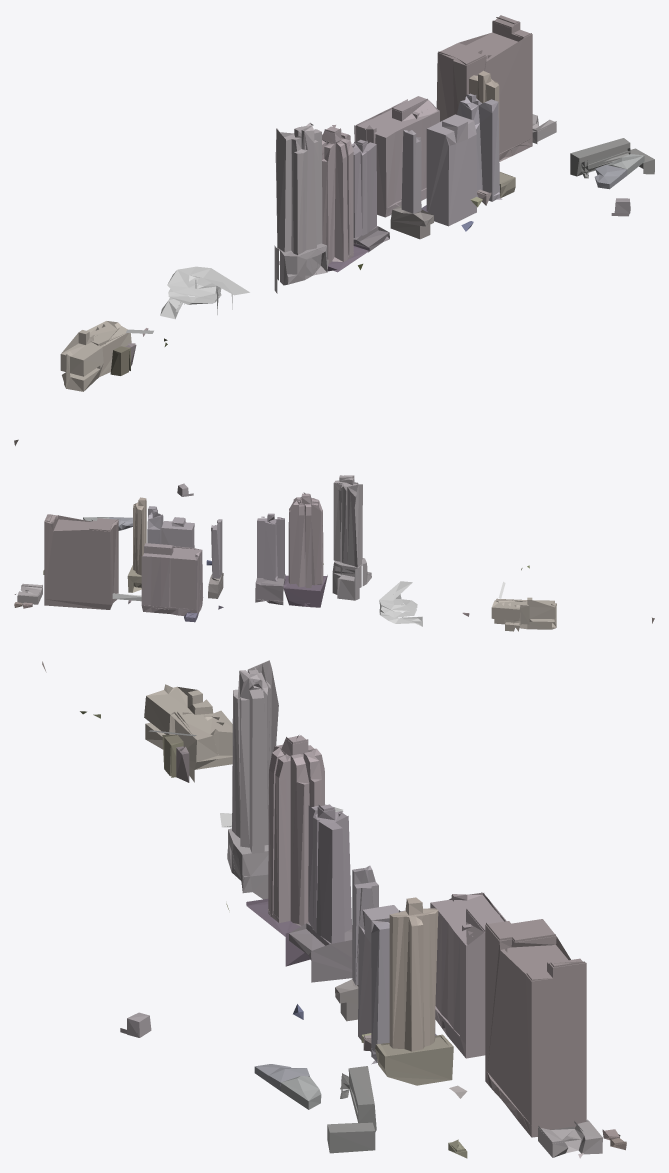
3 renders of one model, top to bottom at view 1: azimuth 30°, elevation 25°; view 2: azimuth 150°, elevation 25°; view 3: azimuth 270°, elevation 25°, orthographic. The views are drawn at different scales.
Parts seen in each view (by area): view 1: buildings, infrastructure; view 2: buildings, infrastructure; view 3: buildings.
Boxes of the visible parts, left/top/right/bottom form: buildings: left=14, top=15, right=654, bottom=445; infrastructure: left=126, top=266, right=249, bottom=333; buildings: left=14, top=475, right=654, bottom=631; infrastructure: left=112, top=581, right=505, bottom=626; buildings: left=42, top=660, right=626, bottom=1158.
Size of the model in its own units: 580 by 133 by 283.
